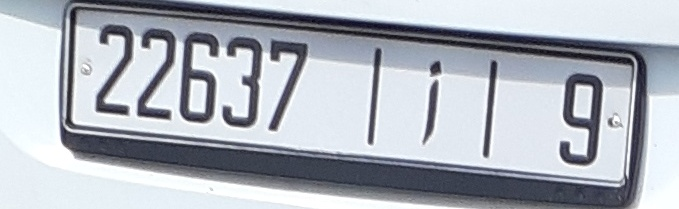2: (134, 20, 184, 122), (91, 17, 134, 121)
3: (219, 30, 267, 133)
6: (176, 25, 220, 130)
7: (265, 37, 310, 135)
9: (554, 68, 608, 173)
a: (412, 54, 449, 148)
